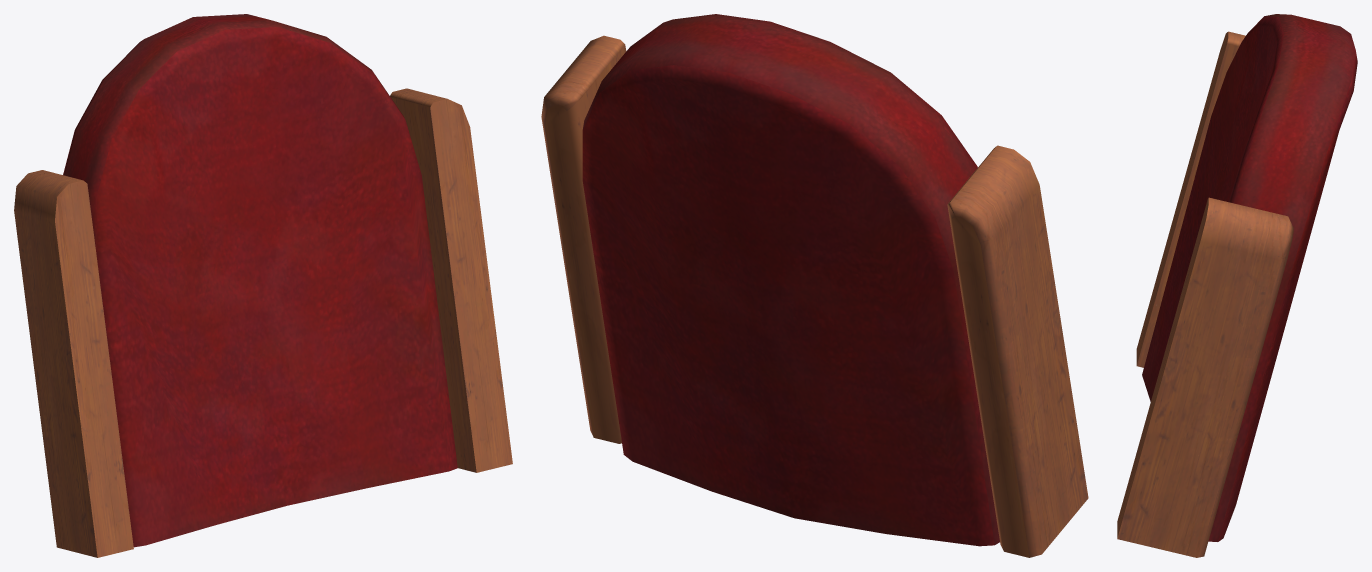
File: SM_Seat.fbx
The picture shows the model from 3 angles, left to right: view 1: azimuth 30°, elevation 25°; view 2: azimuth 150°, elevation 25°; view 3: azimuth 270°, elevation 25°; orthographic projection. The views are drawn at different scales.
Parts seen in each view (by area): view 1: SM_Seat; view 2: SM_Seat; view 3: SM_Seat.
Boxes of the visible parts, left/top/right/bottom form: SM_Seat: left=14, top=14, right=512, bottom=557; SM_Seat: left=541, top=14, right=1088, bottom=557; SM_Seat: left=1117, top=14, right=1357, bottom=557.
Size of the model in its own units: 285 by 303 by 150.
